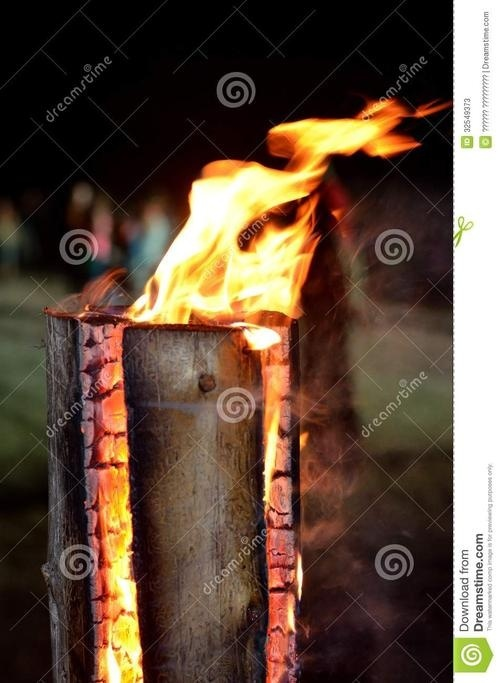fire: (121, 95, 429, 327), (97, 389, 140, 679)
